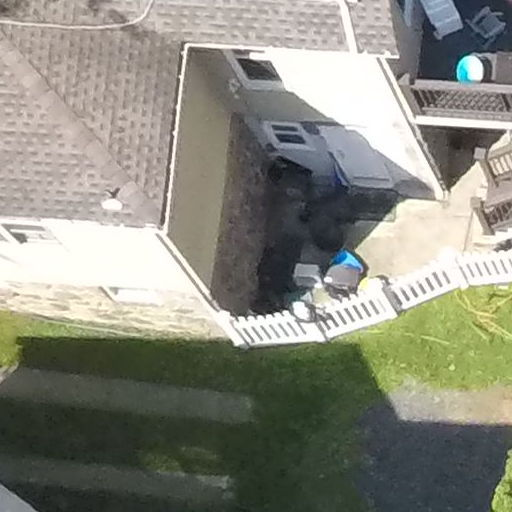container: (291, 259, 331, 292), (327, 244, 368, 276)
porch: (422, 4, 512, 137)
trash bin: (305, 213, 352, 253), (322, 258, 367, 299)
